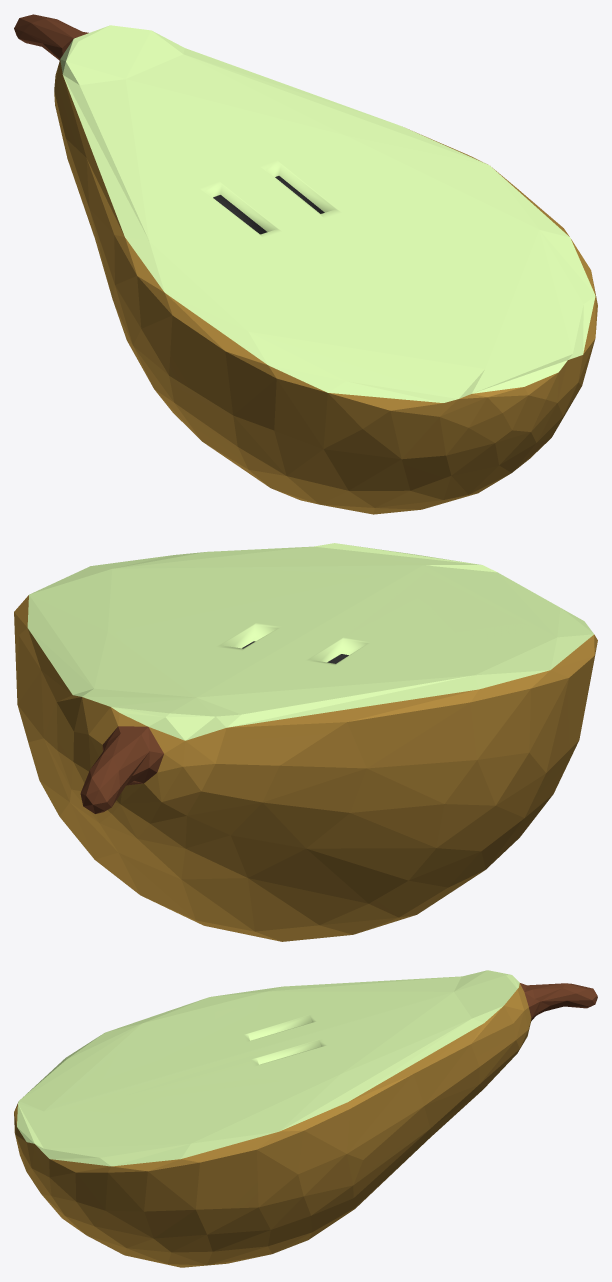
Rendered from pearPie.fbx.
The picture shows the model from 3 angles, top to bottom: view 1: azimuth 30°, elevation 25°; view 2: azimuth 150°, elevation 25°; view 3: azimuth 270°, elevation 25°; orthographic projection. The views are drawn at different scales.
Visible parts, largest first — view 1: Avokado; view 2: Avokado; view 3: Avokado.
Part boxes in pixels (left/top/right/bottom): Avokado: left=14, top=14, right=597, bottom=514; Avokado: left=14, top=543, right=597, bottom=941; Avokado: left=14, top=970, right=597, bottom=1267.
Bounding box in the file's own units: 0.2601 × 0.201 × 0.4348.
